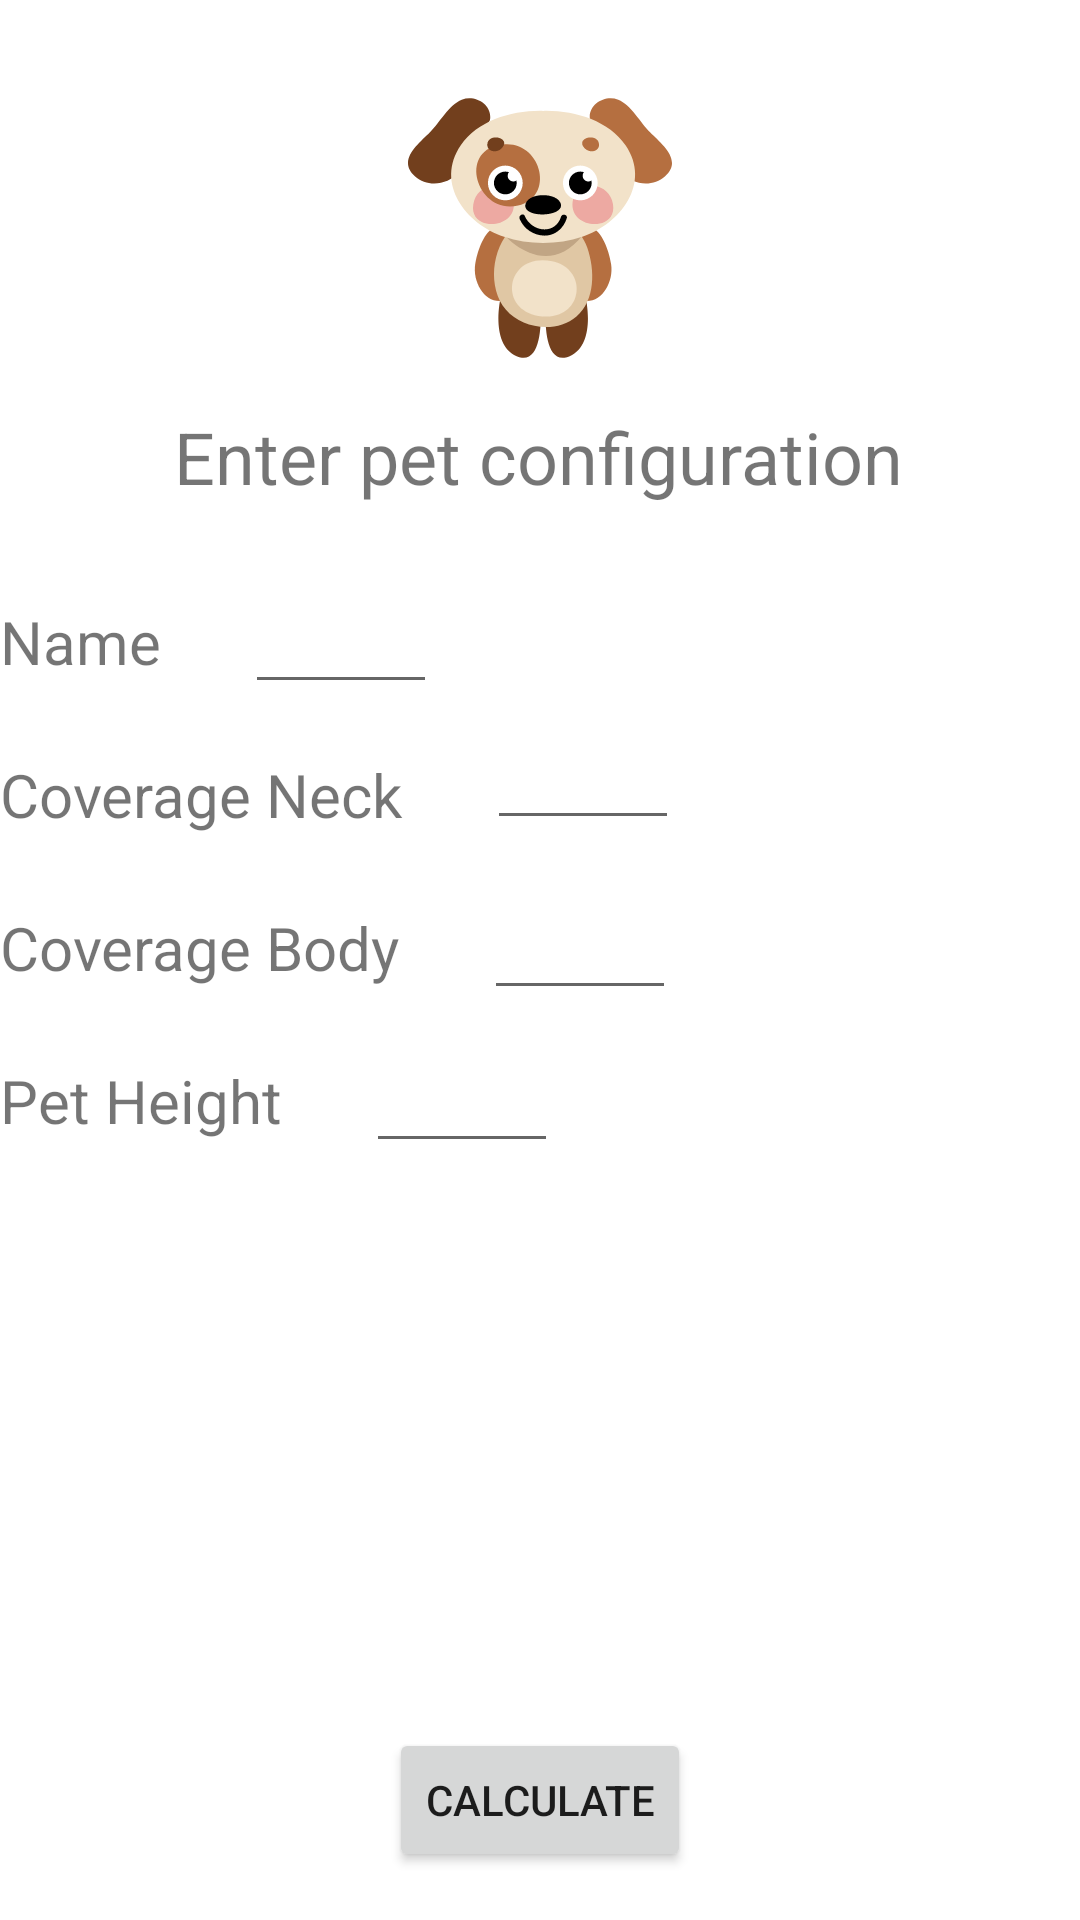

Icon click points for this 1080*1920 phone screenshot, format point (x, y):
dog: point (540, 228)
